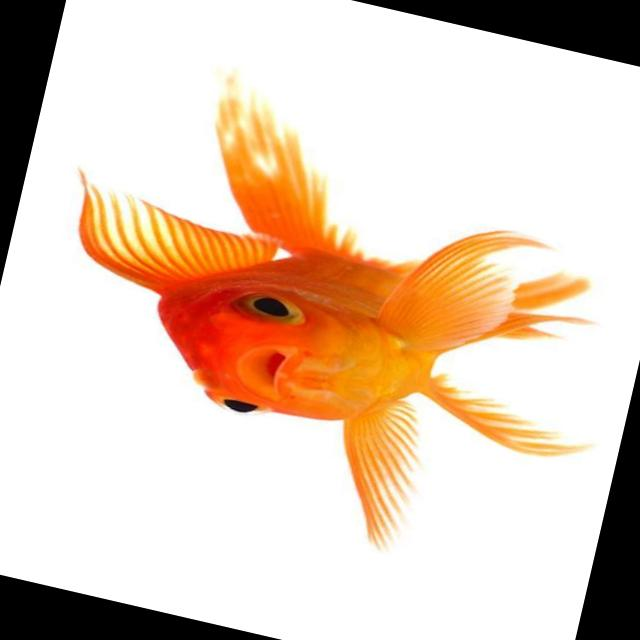GoldFish: (0, 24, 640, 594)
